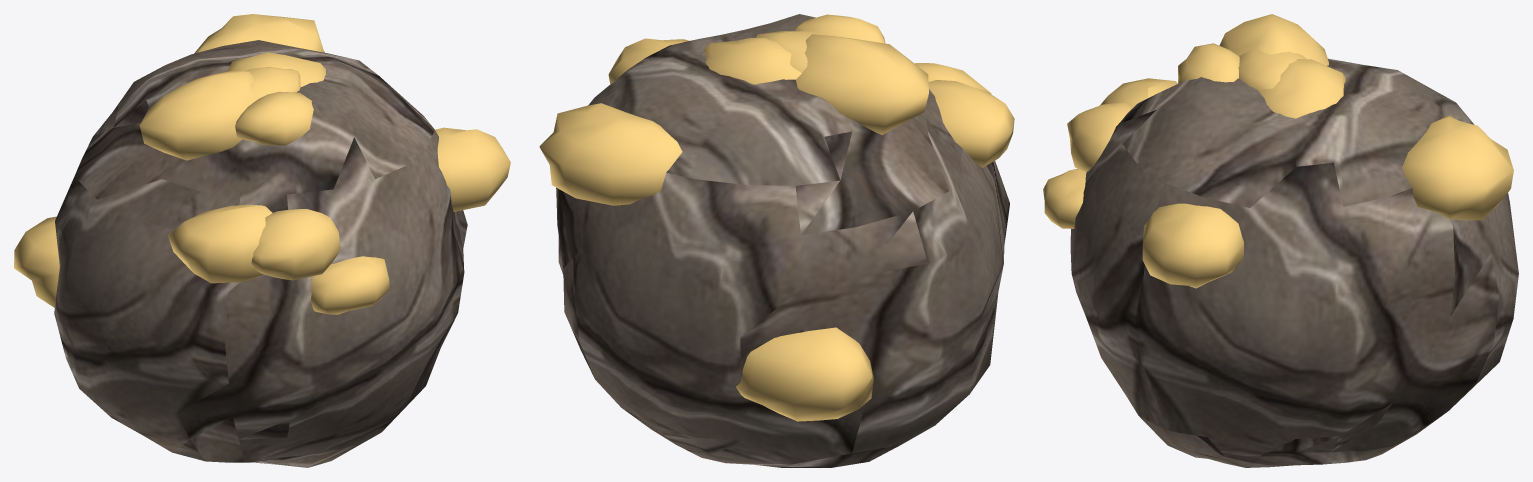
The model's file is ore_gold.glb.
The picture shows the model from 3 angles, left to right: view 1: azimuth 30°, elevation 25°; view 2: azimuth 150°, elevation 25°; view 3: azimuth 270°, elevation 25°; orthographic projection. The views are drawn at different scales.
Visible parts, largest first — view 1: ore_gold; view 2: ore_gold; view 3: ore_gold.
Part boxes in pixels (box(x1,y1,x2,y2)): ore_gold: box(14, 14, 510, 467); ore_gold: box(539, 14, 1014, 467); ore_gold: box(1043, 14, 1518, 467).
Bounding box in the file's own units: 0.5899 × 0.5449 × 0.596.
2 materials, 1 textured.
